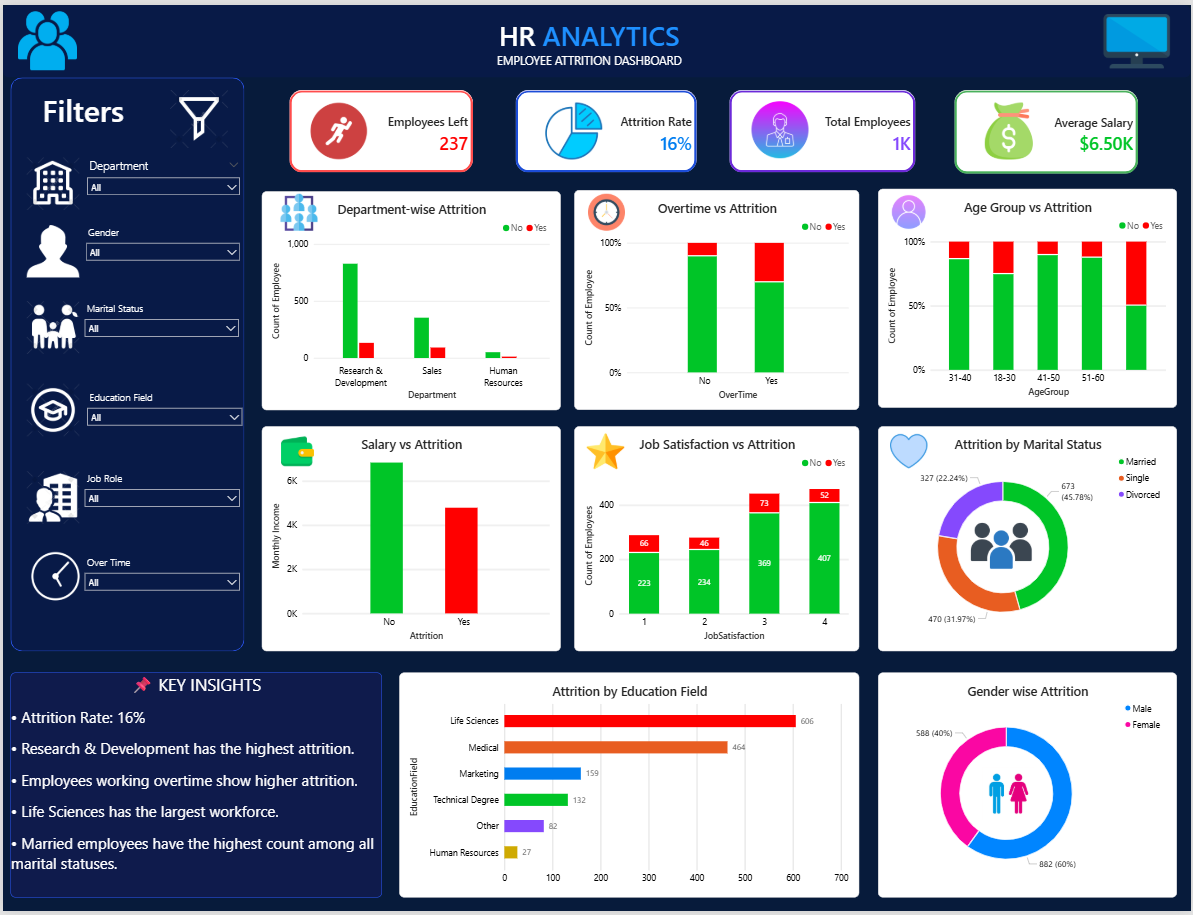

The page's visual inventory and layout, read from the dashboard file:
{"tool":"powerbi","page":{"name":"Page 1","canvas":[1900,1450],"ordinal":0},"visuals":[{"type":"shape","box":[0,0,1900,116],"z":0},{"type":"shape","box":[12,116,374,918],"z":1000},{"type":"textbox","box":[148,0,1580,116],"z":2000},{"type":"slicer","fields":{"Values":["HR_PowerBI.Department"]},"box":[130,244,254,108],"z":3000},{"type":"slicer","fields":{"Values":["HR_PowerBI.Gender"]},"box":[128,352,256,114],"z":4000},{"type":"slicer","fields":{"Values":["HR_PowerBI.MaritalStatus"]},"box":[126,474,256,114],"z":5000},{"type":"slicer","fields":{"Values":["HR_PowerBI.EducationField"]},"box":[130,616,258,116],"z":6000},{"type":"slicer","fields":{"Values":["HR_PowerBI.JobRole"]},"box":[126,746,258,108],"z":7000},{"type":"slicer","fields":{"Values":["HR_PowerBI.OverTime"]},"box":[126,880,258,128],"z":8000},{"type":"cardVisual","fields":{"Data":["HR_PowerBI.Avg Salary"]},"box":[1522,136,294,134],"z":9000},{"type":"cardVisual","fields":{"Data":["HR_PowerBI.Employees Left"]},"box":[458,136,294,132],"z":10000},{"type":"cardVisual","fields":{"Data":["HR_PowerBI.Attrition Rate"]},"box":[820,136,290,132],"z":11000},{"type":"cardVisual","fields":{"Data":["HR_PowerBI.Total Employees"]},"box":[1162,136,298,132],"z":12000},{"type":"clusteredColumnChart","title":"Department-wise Attrition","fields":{"Category":["HR_PowerBI.Department"],"Y":["CountNonNull(HR_PowerBI.EmployeeNumber)"],"Series":["HR_PowerBI.Attrition"]},"box":[414,298,478,350],"z":13000},{"type":"hundredPercentStackedColumnChart","title":"Overtime vs Attrition","fields":{"Category":["HR_PowerBI.OverTime"],"Y":["CountNonNull(HR_PowerBI.EmployeeNumber)"],"Series":["HR_PowerBI.Attrition"]},"box":[914,296,456,352],"z":14000},{"type":"hundredPercentStackedColumnChart","title":"Age Group vs Attrition","fields":{"Y":["CountNonNull(HR_PowerBI.EmployeeNumber)"],"Series":["HR_PowerBI.Attrition"],"Category":["HR_PowerBI.AgeGroup"]},"box":[1400,294,478,350],"z":15000},{"type":"clusteredColumnChart","title":"Salary vs Attrition","fields":{"Category":["HR_PowerBI.Attrition"],"Y":["Avg(HR_PowerBI.MonthlyIncome)"]},"box":[414,674,478,360],"z":16000},{"type":"columnChart","title":"Job Satisfaction vs Attrition","fields":{"Category":["HR_PowerBI.JobSatisfaction"],"Series":["HR_PowerBI.Attrition"],"Y":["CountNonNull(HR_PowerBI.EmployeeNumber)"]},"box":[914,674,456,360],"z":17000},{"type":"donutChart","title":"Attrition by Marital Status","fields":{"Y":["CountNonNull(HR_PowerBI.Attrition)"],"Category":["HR_PowerBI.MaritalStatus"]},"box":[1400,674,478,360],"z":18000},{"type":"donutChart","title":"Gender wise Attrition ","fields":{"Y":["CountNonNull(HR_PowerBI.Attrition)"],"Category":["HR_PowerBI.Gender"]},"box":[1400,1068,478,360],"z":19000},{"type":"barChart","title":" Attrition by Education Field","fields":{"Y":["CountNonNull(HR_PowerBI.Attrition)"],"Category":["HR_PowerBI.EducationField"]},"box":[634,1068,736,360],"z":20000},{"type":"image","box":[1548,1220,122,84],"z":21000},{"type":"image","box":[1522,800,150,130],"z":22000},{"type":"image","box":[12,10,118,94],"z":23000},{"type":"image","box":[33.3,244.2,92.5,84.2],"z":24000},{"type":"image","box":[33.3,351.7,92.5,84.2],"z":25000},{"type":"image","box":[33.3,474.2,92.5,84.2],"z":26000},{"type":"image","box":[33.3,606.7,92.5,84.2],"z":27000},{"type":"image","box":[33.3,745.8,92.5,84.2],"z":28000},{"type":"image","box":[37.5,872.5,92.5,84.2],"z":29000},{"type":"image","box":[245,135,135,92.5],"z":30000},{"type":"textbox","box":[12.5,115,232.5,130],"z":31000},{"type":"image","box":[1176.2,153.8,135,91.2],"z":32000},{"type":"image","box":[470,156.2,135,91.2],"z":33000},{"type":"image","box":[846.2,156.2,135,91.2],"z":34000},{"type":"image","box":[1541.2,156.2,135,91.2],"z":35000},{"type":"image","box":[423.3,301.1,98.9,58.9],"z":36000},{"type":"image","box":[916.7,301.1,98.9,58.9],"z":37000},{"type":"image","box":[1400,302,98,58],"z":38000},{"type":"image","box":[422,684,98,60],"z":39000},{"type":"image","box":[914,684,100,60],"z":40000},{"type":"image","box":[1400,684,98,60],"z":41000},{"type":"image","box":[1728,0,172,116],"z":42000},{"type":"textbox","box":[12,1068,594,360],"z":42001}]}

Visuals, with their boxes in screenshot pixels (x1, y1, x2, y2), scaled from the page's 1900x1450 canvas onto the 1193x915 screenshot:
shape: 0 0 1192 73
shape: 8 73 242 652
textbox: 93 0 1085 73
slicer - HR_PowerBI.Department: 82 154 241 222
slicer - HR_PowerBI.Gender: 80 222 241 294
slicer - HR_PowerBI.MaritalStatus: 79 299 240 371
slicer - HR_PowerBI.EducationField: 82 389 244 462
slicer - HR_PowerBI.JobRole: 79 471 241 539
slicer - HR_PowerBI.OverTime: 79 555 241 636
cardVisual - HR_PowerBI.Avg Salary: 956 86 1140 170
cardVisual - HR_PowerBI.Employees Left: 288 86 472 169
cardVisual - HR_PowerBI.Attrition Rate: 515 86 697 169
cardVisual - HR_PowerBI.Total Employees: 730 86 917 169
"Department-wise Attrition" clusteredColumnChart: 260 188 560 409
"Overtime vs Attrition" hundredPercentStackedColumnChart: 574 187 860 409
"Age Group vs Attrition" hundredPercentStackedColumnChart: 879 186 1179 406
"Salary vs Attrition" clusteredColumnChart: 260 425 560 652
"Job Satisfaction vs Attrition" columnChart: 574 425 860 652
"Attrition by Marital Status" donutChart: 879 425 1179 652
"Gender wise Attrition " donutChart: 879 674 1179 901
" Attrition by Education Field" barChart: 398 674 860 901
image: 972 770 1049 823
image: 956 505 1050 587
image: 8 6 82 66
image: 21 154 79 207
image: 21 222 79 275
image: 21 299 79 352
image: 21 383 79 436
image: 21 471 79 524
image: 24 551 82 604
image: 154 85 239 144
textbox: 8 73 154 155
image: 739 97 823 155
image: 295 99 380 156
image: 531 99 616 156
image: 968 99 1052 156
image: 266 190 328 227
image: 576 190 638 227
image: 879 191 941 227
image: 265 432 327 469
image: 574 432 637 469
image: 879 432 941 469
image: 1085 0 1192 73
textbox: 8 674 381 901
